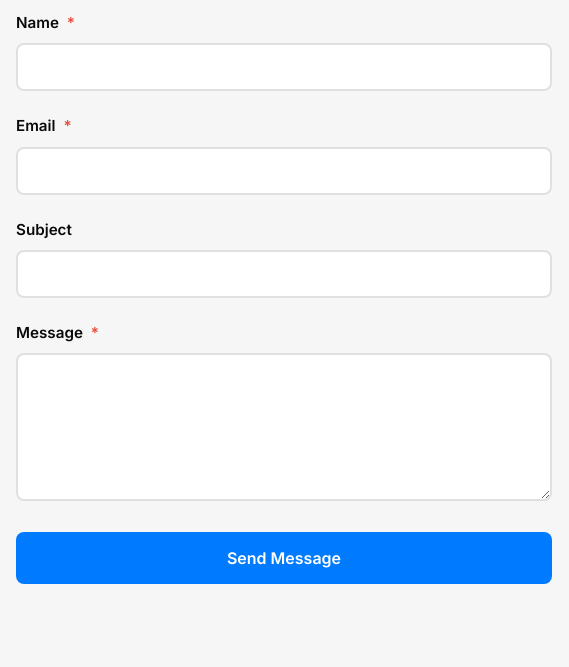
Test: ContactForm Component › submits form with valid data
The width and height of the screenshot is (569, 667).
Type "John Doe" into the field labelled "Name *" at (284, 67), box [16,43,552,91]
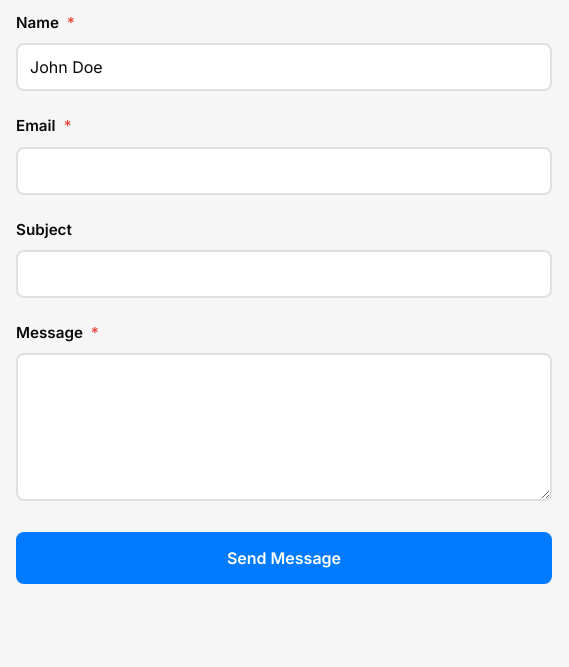
Type "john@example.com" into the field labelled "Email *" at (284, 171), box [16,147,552,195]
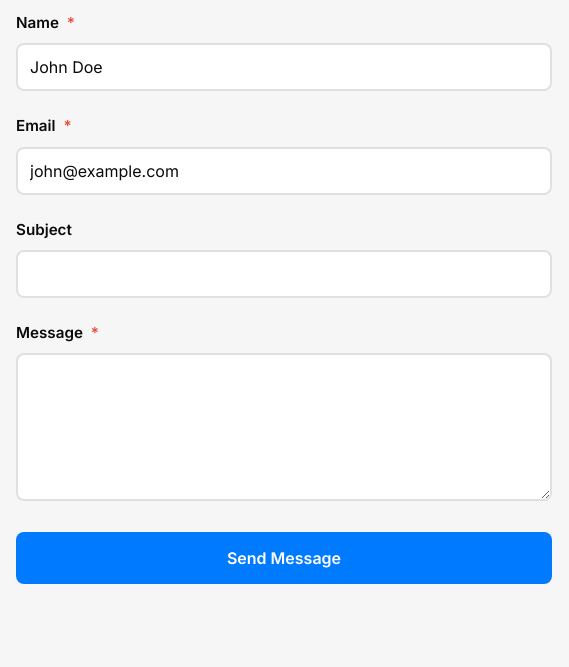
Type "This is a test message that is long enough" into the text box labelled "Message *" at (284, 427), box [16,353,552,501]
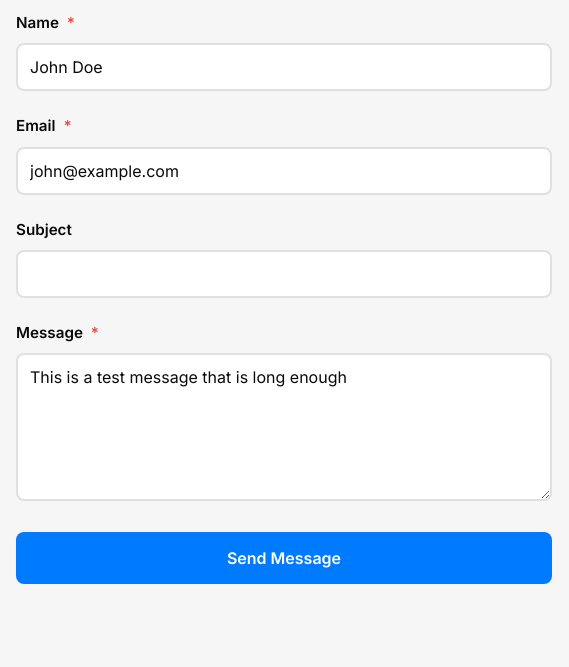
Click the button "Send Message" at (284, 558), box [16,532,552,584]
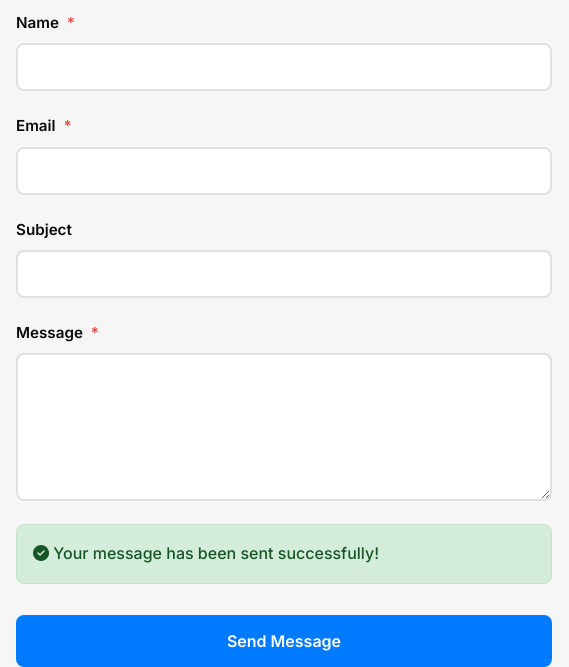
Check: the text "Your message has been sent successfully!" is shown, box [16,524,552,584]
